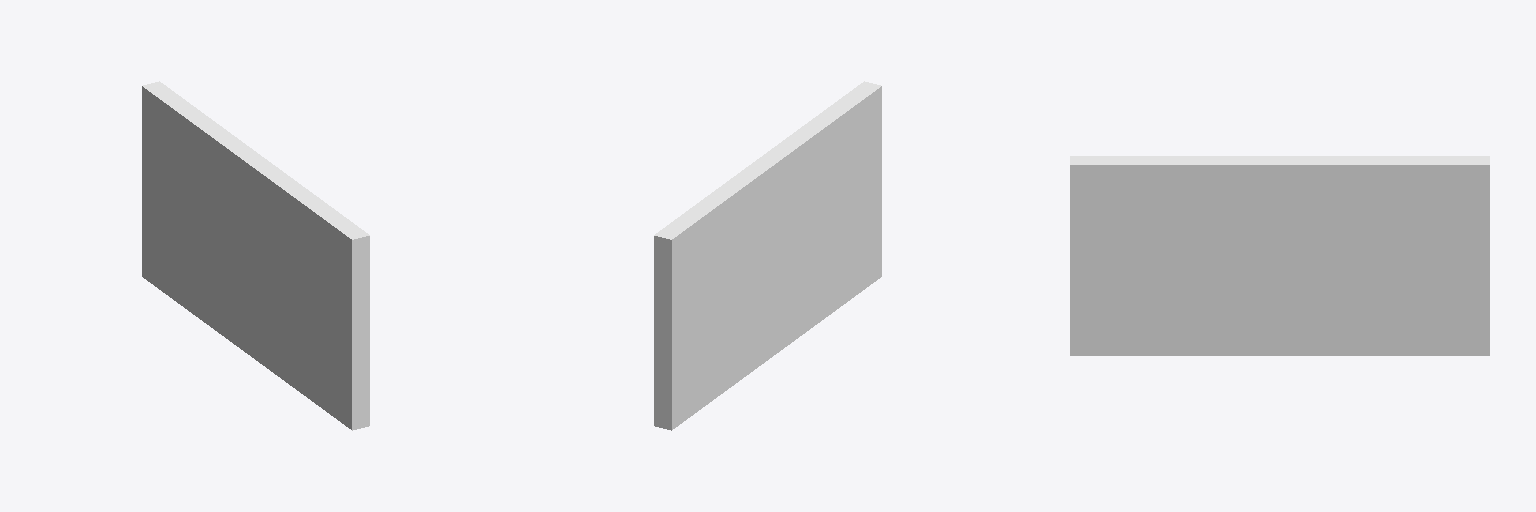
Rendered from 2_room3_wall_right.obj.
The picture shows the model from 3 angles: view 1: azimuth 30°, elevation 25°; view 2: azimuth 150°, elevation 25°; view 3: azimuth 270°, elevation 25°; orthographic projection.
Visible parts, largest first — view 1: object 1; view 2: object 1; view 3: object 1.
Boxes of the visible parts, box(x1,y1,x2,y2) form: object 1: box(142, 81, 369, 430); object 1: box(654, 81, 881, 430); object 1: box(1070, 156, 1489, 355).
Bounding box in the file's own units: 1 × 10 × 20.